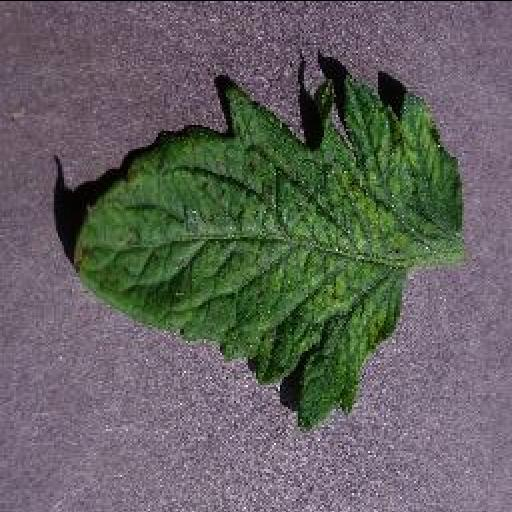Mosaic Virus: (69, 73, 467, 435)
